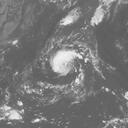cyclone: (50, 50, 83, 77)
